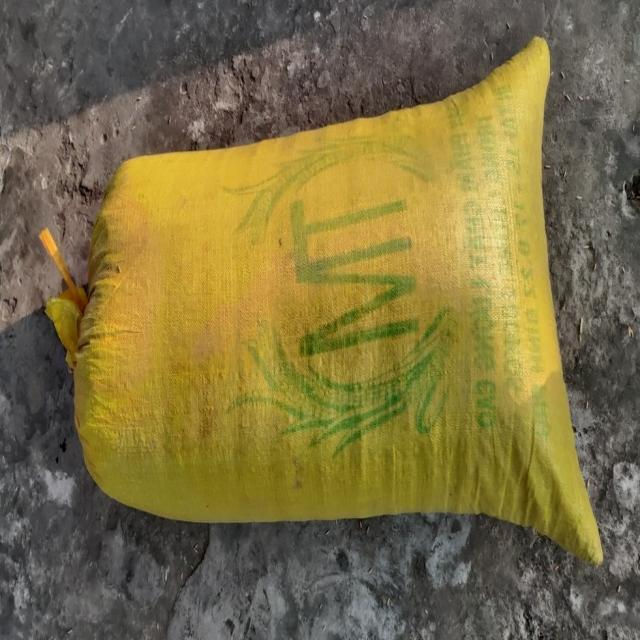gunny_bag: (65, 37, 603, 565)
